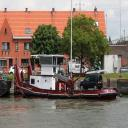tugboat: (14, 54, 124, 105)
